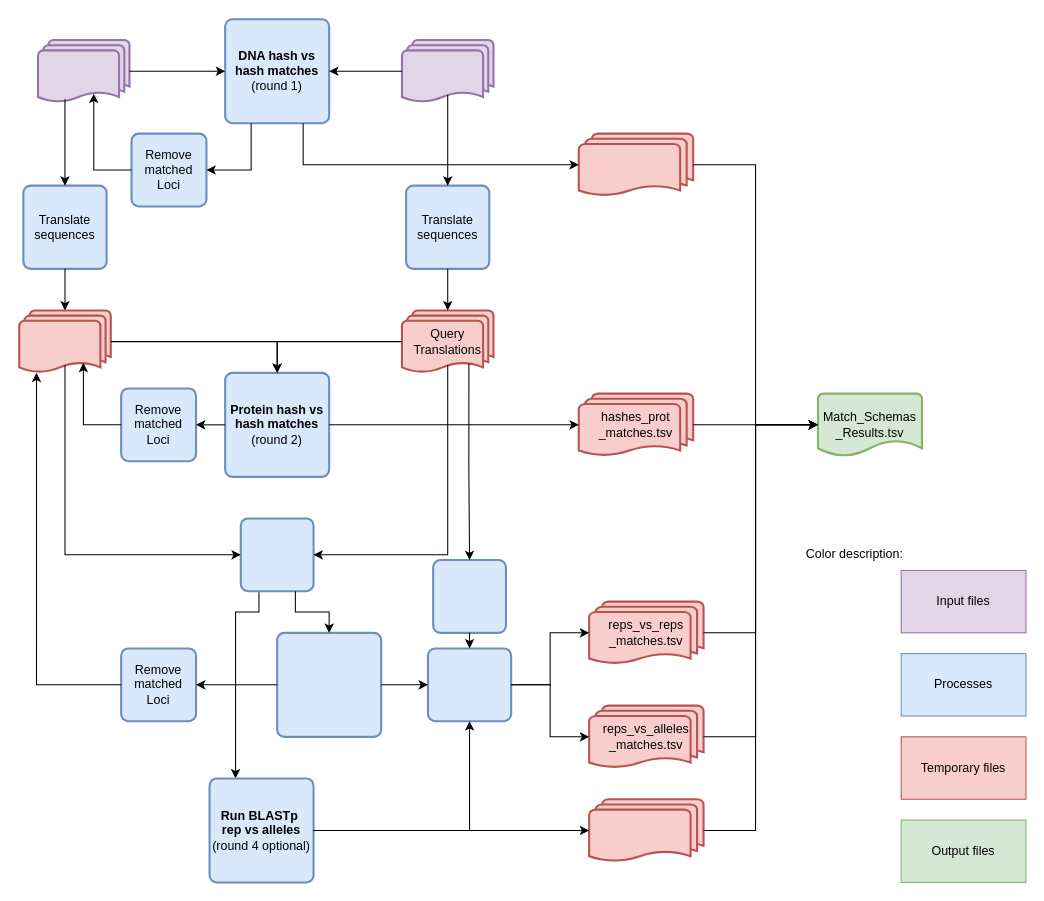
Image size: 1044x901. Some labels were removed from this diagram. Each missing label, with the centre of its shape:
Calculate self-score: [469,595]
Create BLASTp database: [276,554]
hashes_dna _matches.tsv: [635,164]
Process BLASTp Results and write to file: [469,684]
Query Schema: [447,70]
Run BLASTp rep vs rep (round 3): [329,684]
Subject Schema: [83,70]
Subject Translations: [64,341]
unmatched.tsv: [646,830]
